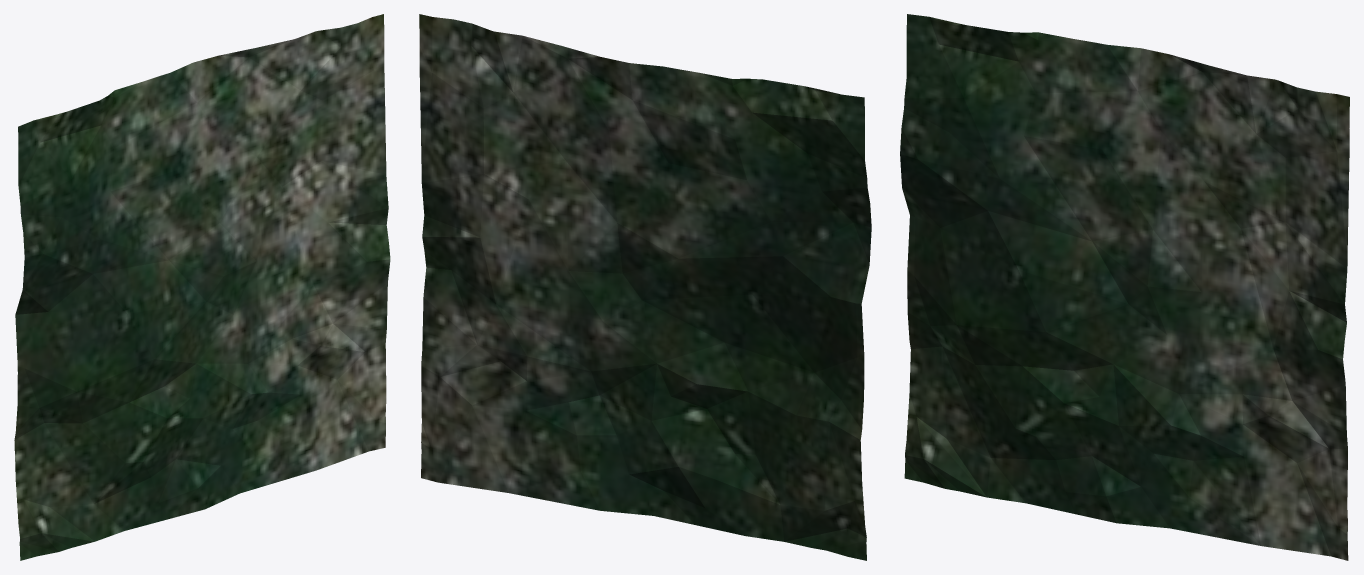
File: Tile_+001_+005_L23_000110.obj
3 views of the same model, side by side, from view 1: azimuth 30°, elevation 25°; view 2: azimuth 150°, elevation 25°; view 3: azimuth 330°, elevation 25° (orthographic). The views are drawn at different scales.
Bounding box in the file's own units: 1.91 × 2.02 × 0.2765.
1 material, 1 textured.
